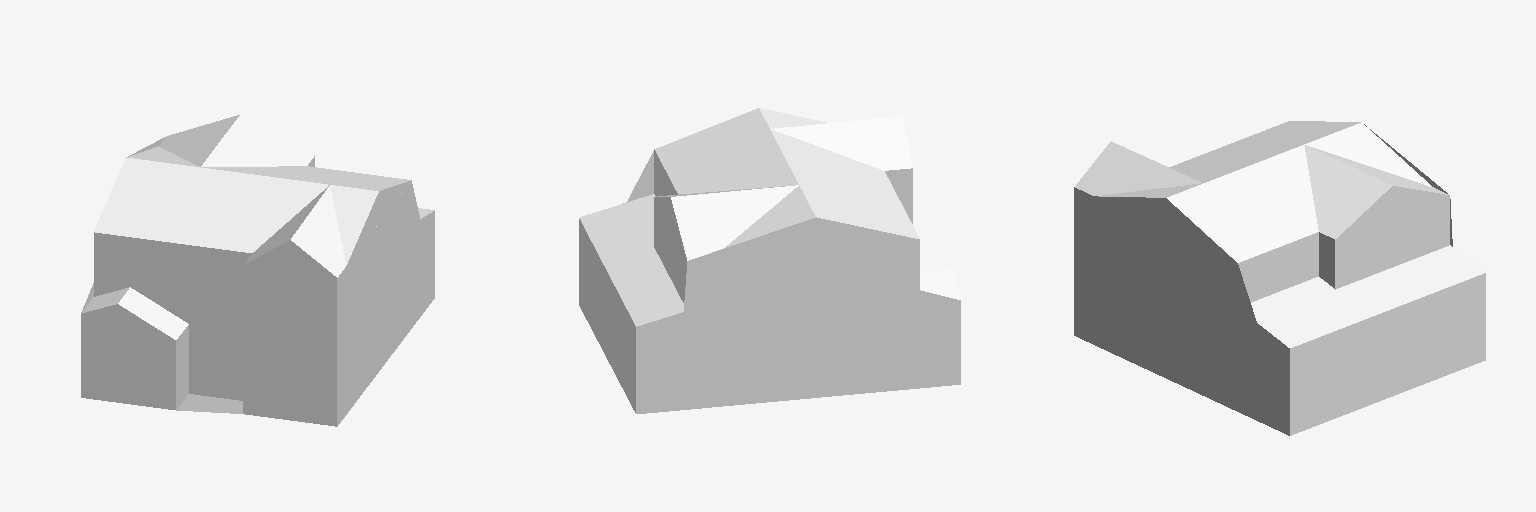
File: house_Shape 297.obj
The picture shows the model from 3 angles: view 1: azimuth 30°, elevation 25°; view 2: azimuth 150°, elevation 25°; view 3: azimuth 270°, elevation 25°; orthographic projection.
Parts seen in each view (by area): view 1: CityEngineMaterial_12, CityEngineMaterial_195, CityEngineMaterial_97, CityEngineMaterial_201, CityEngineMaterial_200; view 2: CityEngineMaterial_12, CityEngineMaterial_201, CityEngineMaterial_57, CityEngineMaterial_97, CityEngineMaterial_170, CityEngineMaterial_195; view 3: CityEngineMaterial_12, CityEngineMaterial_97, CityEngineMaterial_201, CityEngineMaterial_195.
Part boxes in pixels (bbox=[...]): CityEngineMaterial_12: bbox=[81, 114, 434, 339]; CityEngineMaterial_195: bbox=[94, 180, 419, 328]; CityEngineMaterial_97: bbox=[81, 156, 336, 426]; CityEngineMaterial_201: bbox=[81, 211, 434, 426]; CityEngineMaterial_200: bbox=[176, 394, 242, 413]; CityEngineMaterial_12: bbox=[579, 108, 960, 326]; CityEngineMaterial_201: bbox=[623, 149, 960, 413]; CityEngineMaterial_57: bbox=[684, 217, 919, 311]; CityEngineMaterial_97: bbox=[579, 197, 912, 412]; CityEngineMaterial_170: bbox=[885, 168, 912, 218]; CityEngineMaterial_195: bbox=[626, 151, 653, 202]; CityEngineMaterial_12: bbox=[1075, 121, 1484, 347]; CityEngineMaterial_97: bbox=[1290, 186, 1485, 435]; CityEngineMaterial_201: bbox=[1074, 232, 1318, 435]; CityEngineMaterial_195: bbox=[1074, 187, 1256, 322].
Bounding box in the file's own units: 17.68 × 8.29 × 17.1.